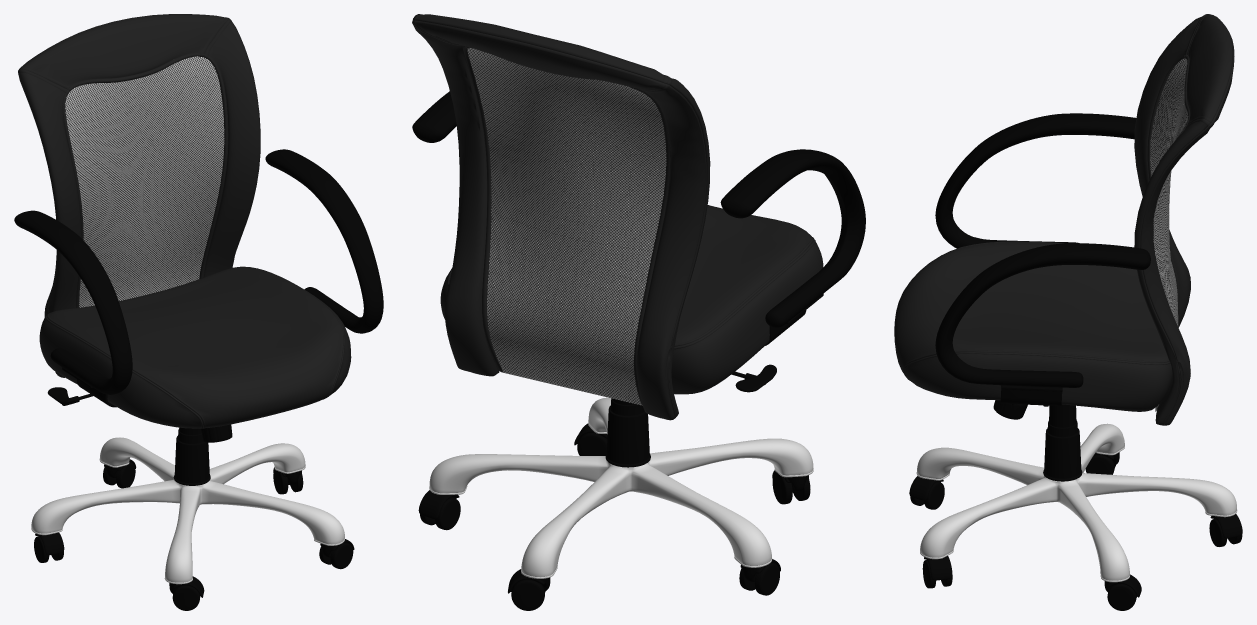
Rendered from rollchair1_50648.glb.
The picture shows the model from 3 angles, left to right: view 1: azimuth 30°, elevation 25°; view 2: azimuth 150°, elevation 25°; view 3: azimuth 270°, elevation 25°; orthographic projection. The views are drawn at different scales.
Parts seen in each view (by area): view 1: Top, Bottom; view 2: Top, Bottom; view 3: Top, Bottom.
Boxes of the visible parts, x1,y1,x2,y2 form: Top: [14, 14, 383, 442]; Bottom: [31, 427, 354, 610]; Top: [412, 14, 865, 420]; Bottom: [418, 397, 813, 610]; Top: [894, 14, 1234, 425]; Bottom: [909, 404, 1242, 610].
Bounding box in the file's own units: 64 × 102 × 65.57.
Materials: 5 (1 with a texture image).
